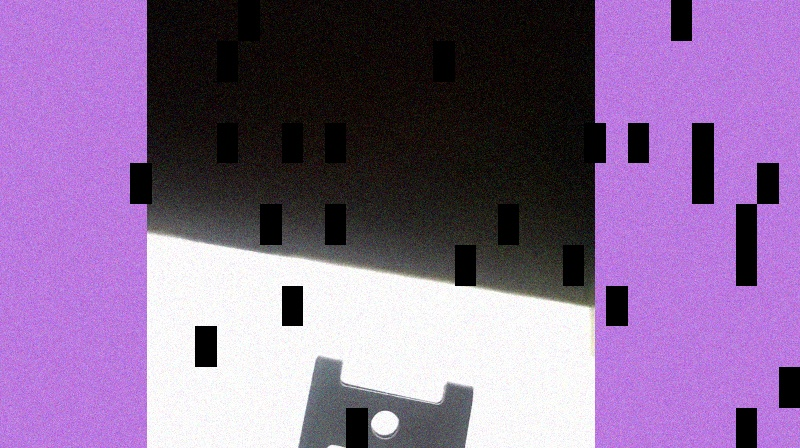O002: (292, 354, 477, 447)
